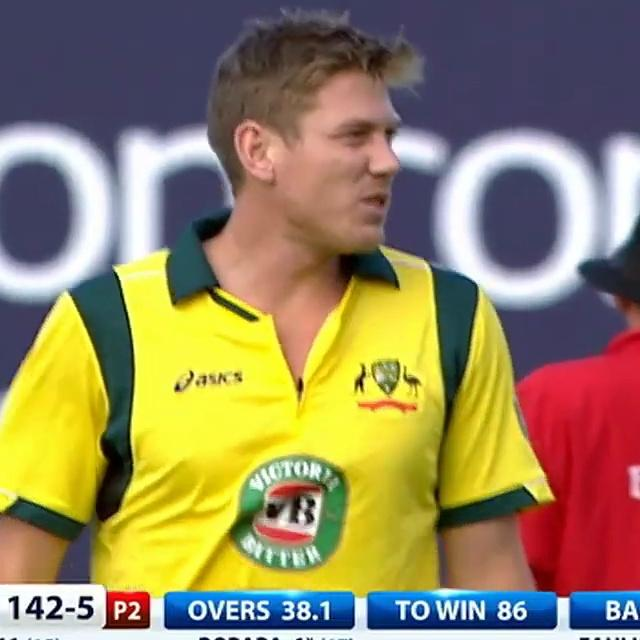umpire: (504, 137, 640, 598)
